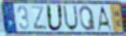3: (17, 5, 30, 31)
A: (97, 5, 114, 32)
Q: (79, 5, 97, 32)
U: (45, 4, 64, 33), (62, 5, 79, 32)
Z: (30, 5, 49, 31)
